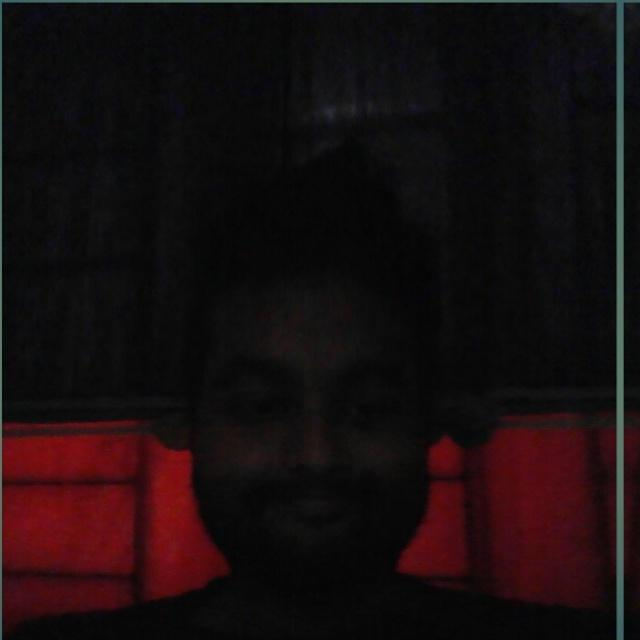Happy: (147, 163, 452, 586)
